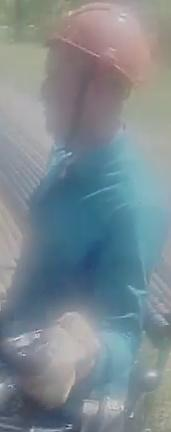gloves: (16, 309, 113, 414)
helmet: (42, 0, 152, 89)
vest: (7, 140, 171, 396)
